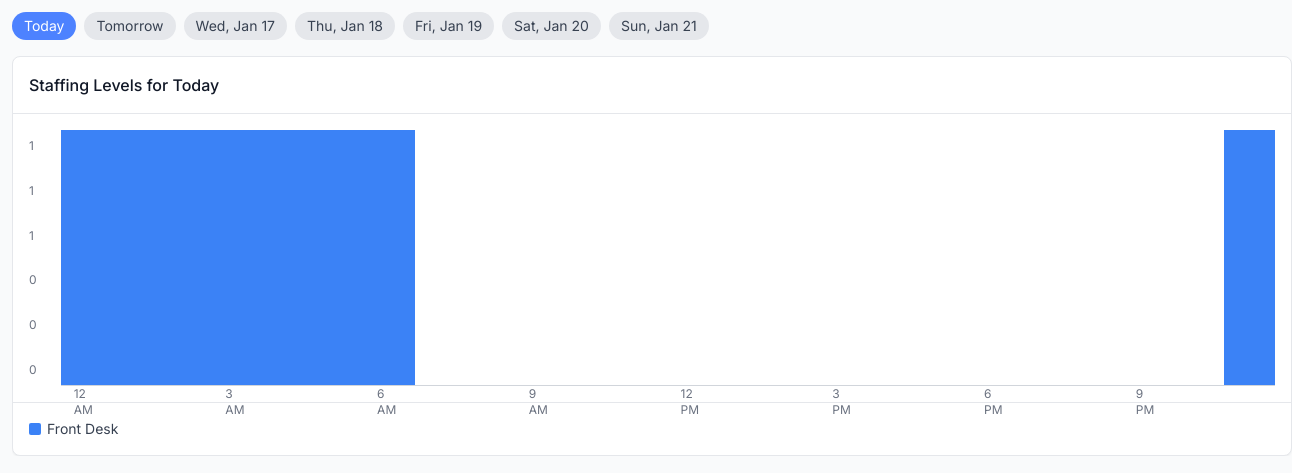
Test: StaffingLevelsView Component › Overnight Shift Handling › should display overnight shift data correctly in tooltip
Hover over the element with class "relative" showing "6 AM" at (390, 258), box [364, 130, 415, 386]
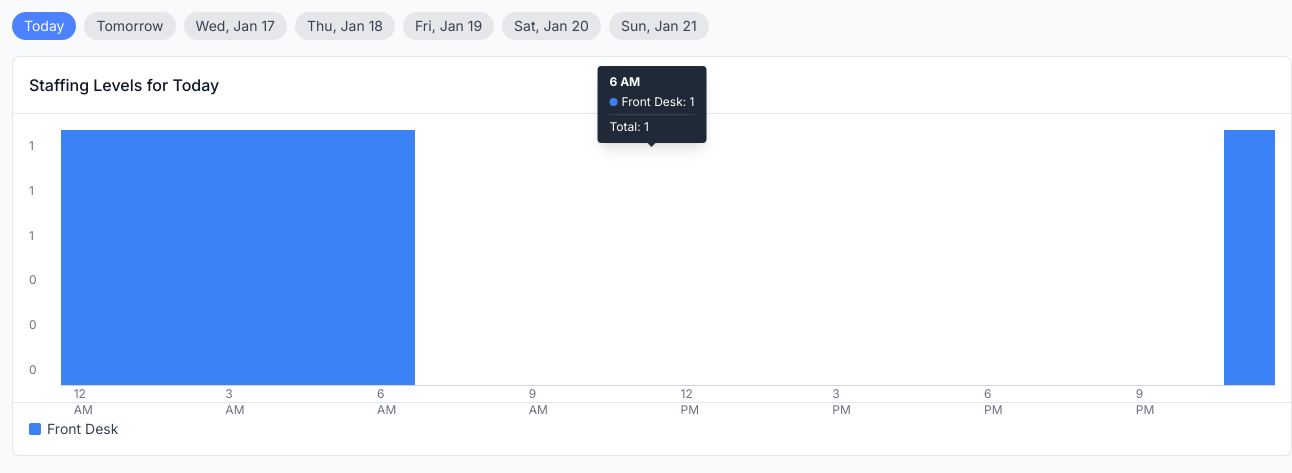
Now the element with class "left-1" is shown, box [598, 66, 706, 143]
Now the text "Front Desk: 1" is shown, box [622, 94, 694, 110]
Now the text "Total: 1" is shown, box [610, 114, 694, 135]
